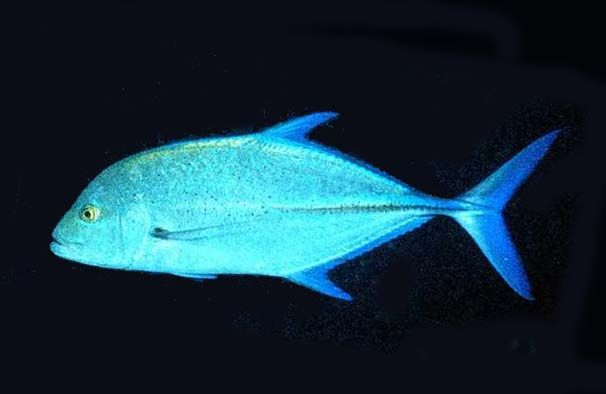fish: (49, 111, 560, 302)
